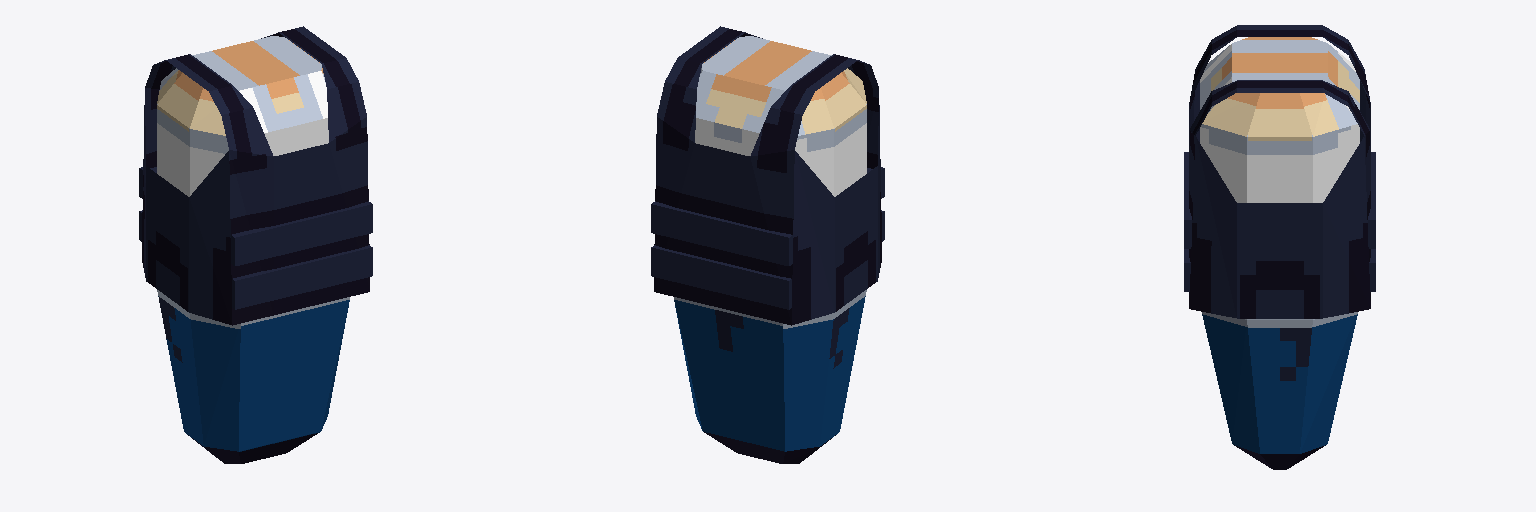
The picture shows the model from 3 angles: view 1: azimuth 30°, elevation 25°; view 2: azimuth 150°, elevation 25°; view 3: azimuth 270°, elevation 25°; orthographic projection.
Parts seen in each view (by area): view 1: cuboid, cylinder; view 2: cuboid, cylinder; view 3: cylinder, cuboid.
Part boxes in pixels (x1,y1,x2,y2): cuboid: (139,26,372,325); cylinder: (157,36,349,463); cuboid: (651,26,884,325); cylinder: (674,36,866,463); cylinder: (1200,37,1359,469); cuboid: (1184,25,1375,318).
Bounding box in the file's own units: 0.8 × 1.71 × 0.75.
1 materials, 1 textured.